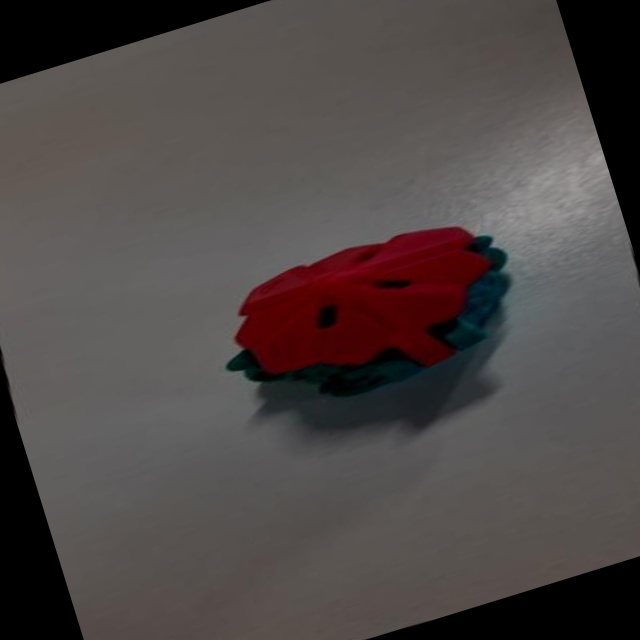House: (191, 186, 555, 445)
